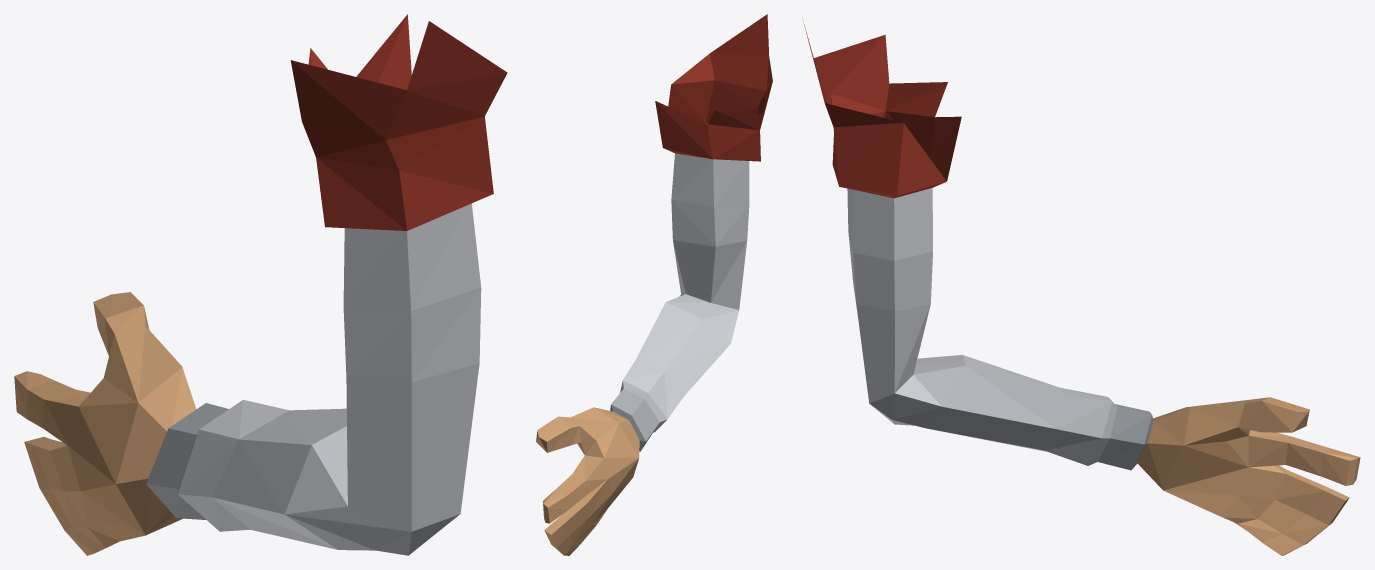
Rendered from Daughter_01_ArmL_72_03_B.obj.
3 views of the same model, side by side, from view 1: azimuth 30°, elevation 25°; view 2: azimuth 150°, elevation 25°; view 3: azimuth 270°, elevation 25° (orthographic). The views are drawn at different scales.
Parts seen in each view (by area): view 1: Daughter_01_ArmL_72_03_B; view 2: Daughter_01_ArmL_72_03_B; view 3: Daughter_01_ArmL_72_03_B.
Boxes of the visible parts, x1=… form: Daughter_01_ArmL_72_03_B: x1=14, y1=14, x2=507, y2=555; Daughter_01_ArmL_72_03_B: x1=536, y1=14, x2=772, y2=555; Daughter_01_ArmL_72_03_B: x1=802, y1=19, x2=1360, y2=555.
Size of the model in its own units: 0.1622 by 0.6208 by 0.5901.
Materials: 1 (1 with a texture image).
